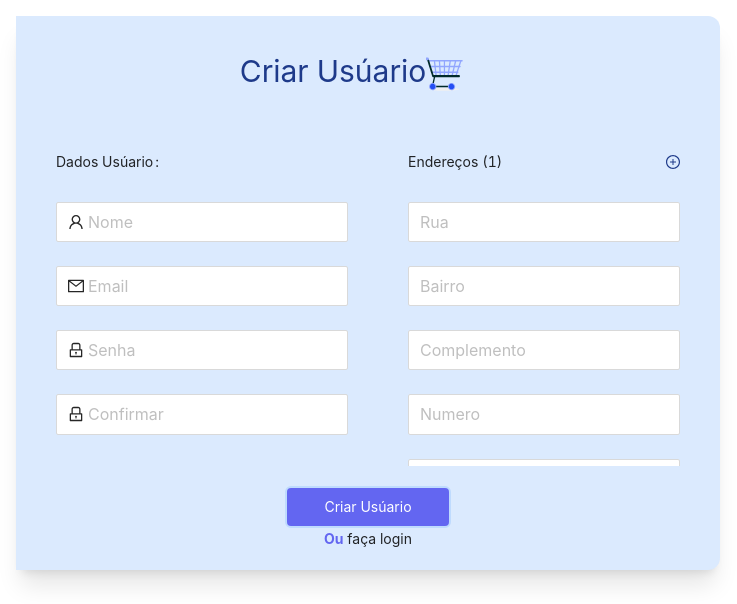
Test: Register Component › Forms validation › Password › should show error when password is empty if submit button
Click the button with test id "submit-component" at (368, 507), box [285,486,451,528]
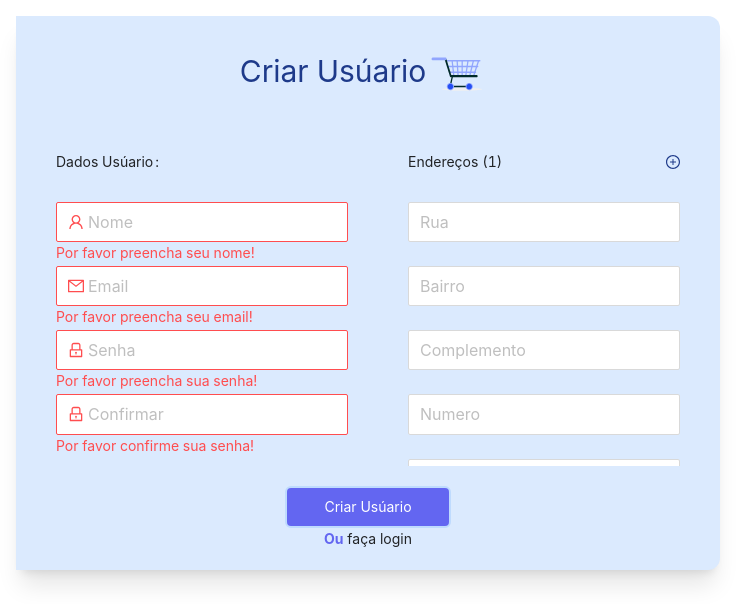
Check: the text "Por favor preencha sua senha!" is shown, box [56,372,257,389]
